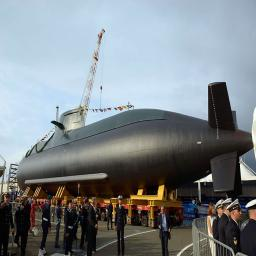submarine: (17, 78, 255, 199)
